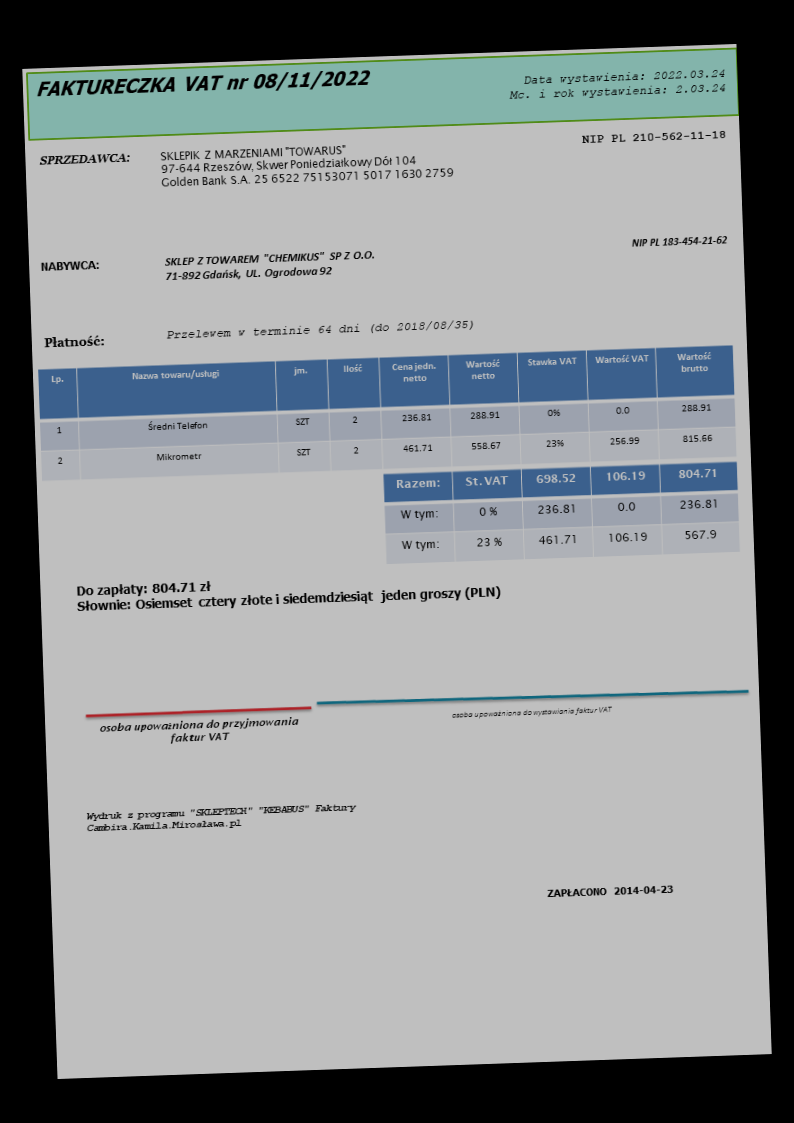Table: (36, 341, 737, 481), (381, 460, 742, 568)
TextBox: (73, 569, 504, 617), (157, 138, 456, 192), (32, 65, 372, 101), (83, 798, 358, 837), (506, 65, 728, 103), (162, 248, 374, 284), (164, 317, 474, 341), (96, 714, 302, 749), (448, 704, 616, 722), (578, 127, 727, 147), (544, 882, 676, 900), (36, 149, 131, 167), (628, 233, 728, 249), (37, 256, 100, 274), (42, 332, 105, 350)
